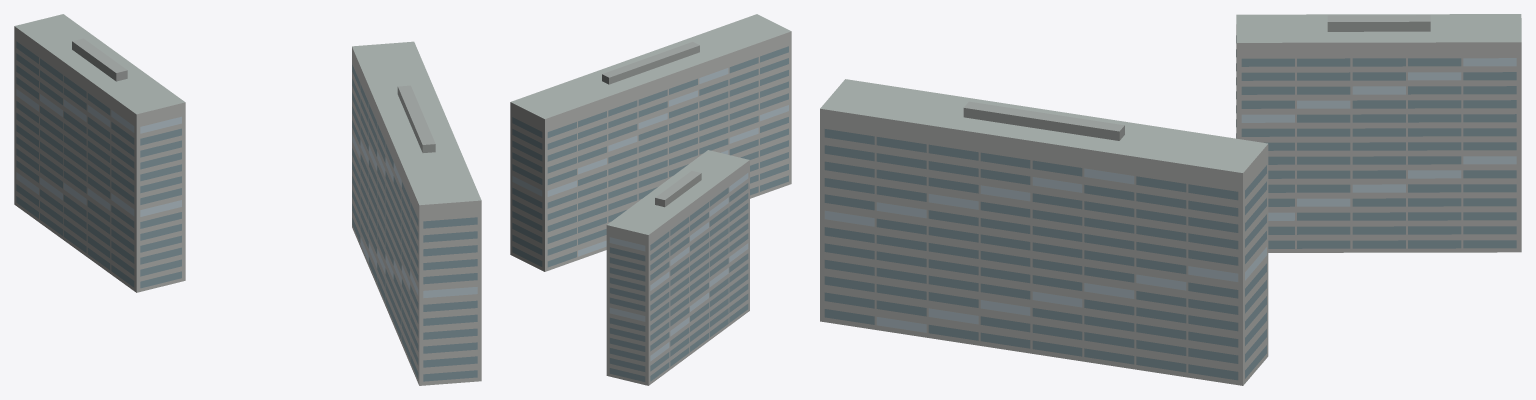
File: apt-a13385202.glb
3 renders of one model, left to right at view 1: azimuth 30°, elevation 25°; view 2: azimuth 150°, elevation 25°; view 3: azimuth 270°, elevation 25°, orthographic. The views are drawn at different scales.
Parts seen in each view (by area): view 1: apt-a13385202; view 2: apt-a13385202; view 3: apt-a13385202.
Part boxes in pixels (x1=…): apt-a13385202: x1=14, y1=14, x2=481, y2=385; apt-a13385202: x1=510, y1=14, x2=791, y2=385; apt-a13385202: x1=820, y1=14, x2=1521, y2=385.
Bounding box in the file's own units: 64.72 × 41.43 × 119.
